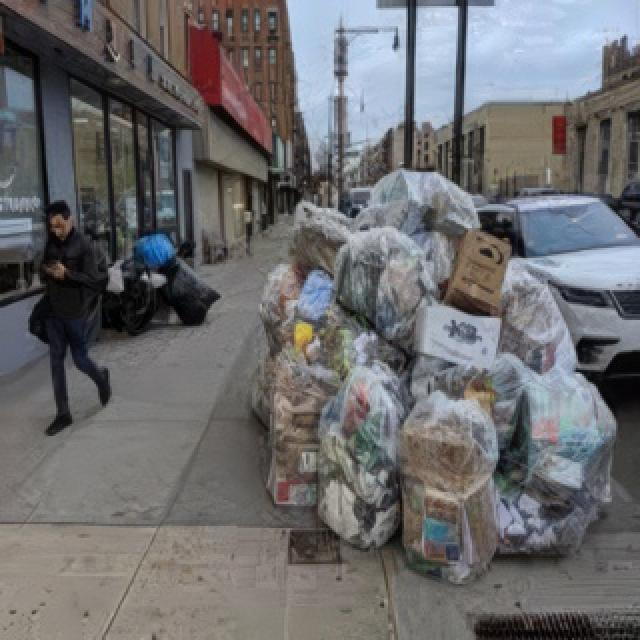high trash: (254, 170, 616, 582)
